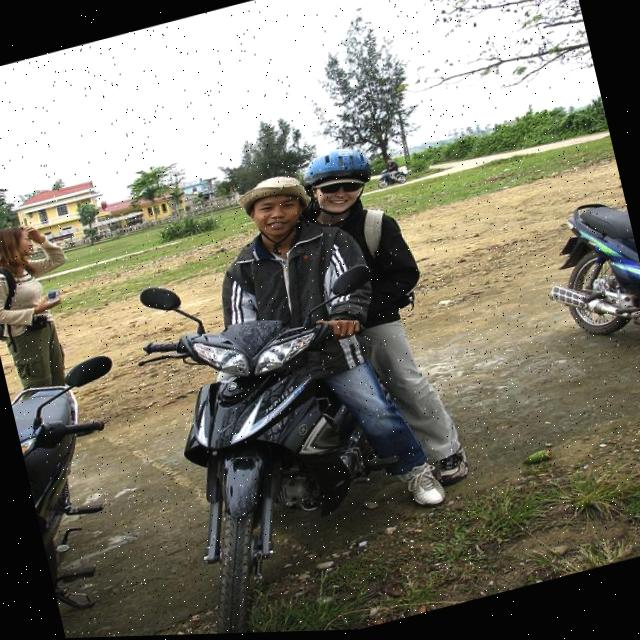motorcycle: (118, 209, 493, 637), (3, 341, 160, 622), (525, 185, 640, 350)
